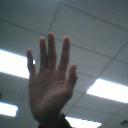hand: (24, 30, 80, 125)
